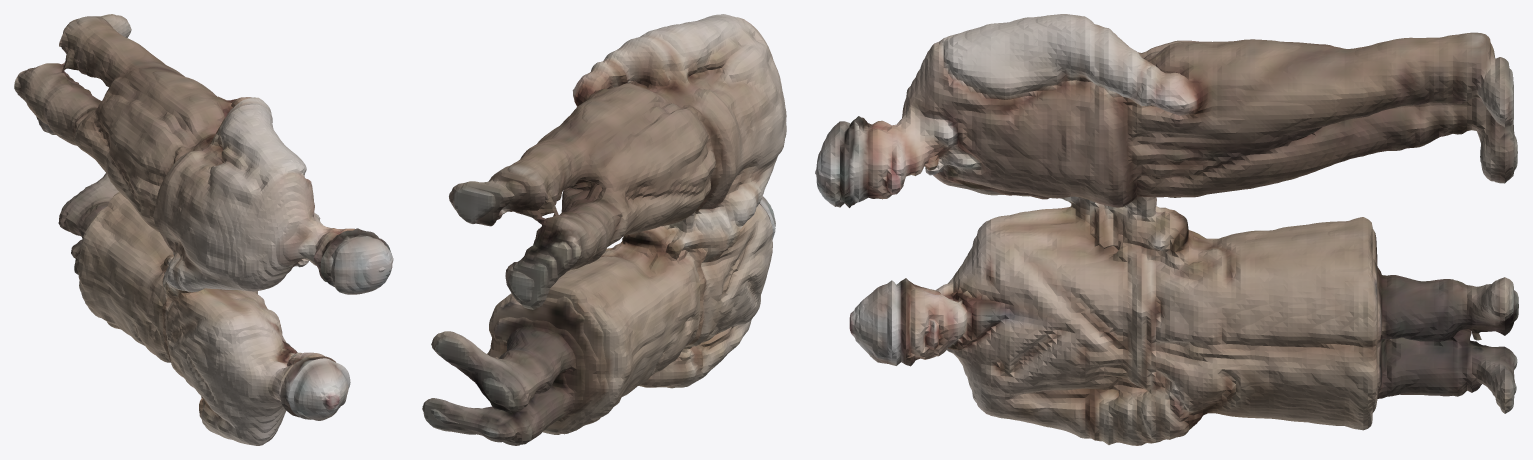
The picture shows the model from 3 angles, left to right: view 1: azimuth 30°, elevation 25°; view 2: azimuth 150°, elevation 25°; view 3: azimuth 270°, elevation 25°; orthographic projection. The views are drawn at different scales.
Parts seen in each view (by area): view 1: geometry_0; view 2: geometry_0; view 3: geometry_0.
Part boxes in pixels (box(x1,y1,x2,y2)): geometry_0: box(14, 14, 393, 445); geometry_0: box(422, 14, 786, 445); geometry_0: box(815, 14, 1518, 445).
Size of the model in its own units: 0.3278 by 0.6844 by 1.02.
